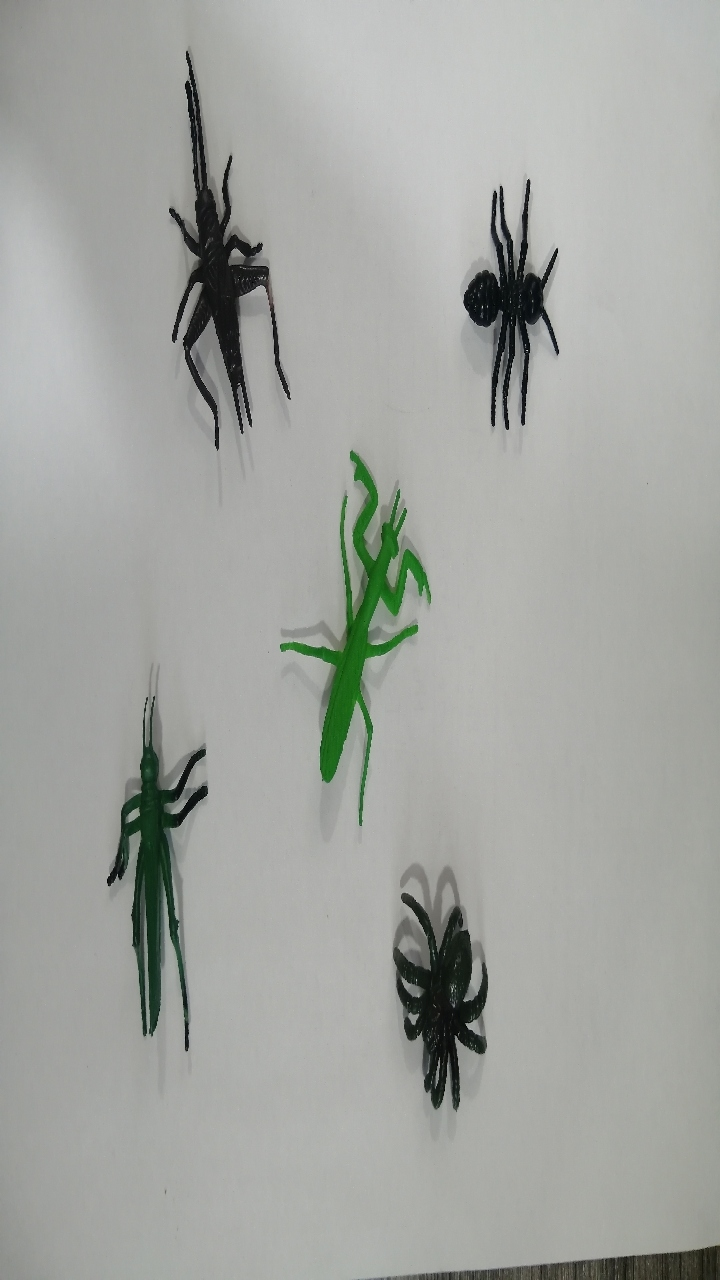intruso: (117, 45, 308, 451), (252, 446, 444, 832), (66, 662, 223, 1069), (418, 172, 580, 434), (355, 871, 506, 1139)
